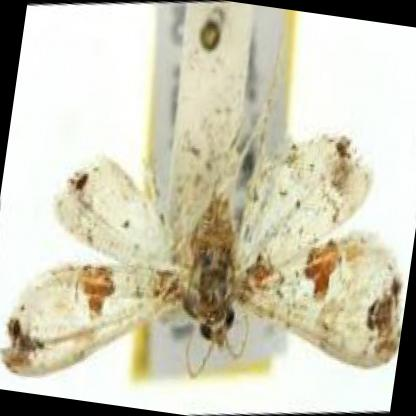leucinodes: (0, 131, 400, 373)
